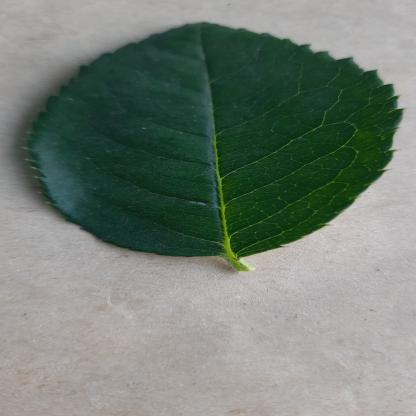normal: (23, 20, 413, 260)
